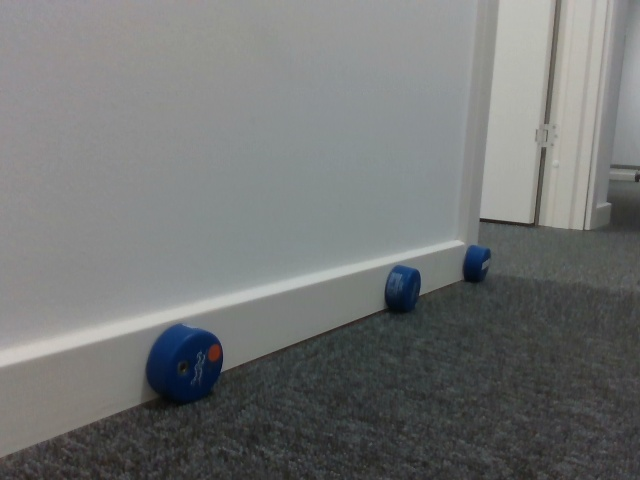alfa: (147, 320, 222, 403), (383, 264, 423, 312), (462, 241, 494, 284)
